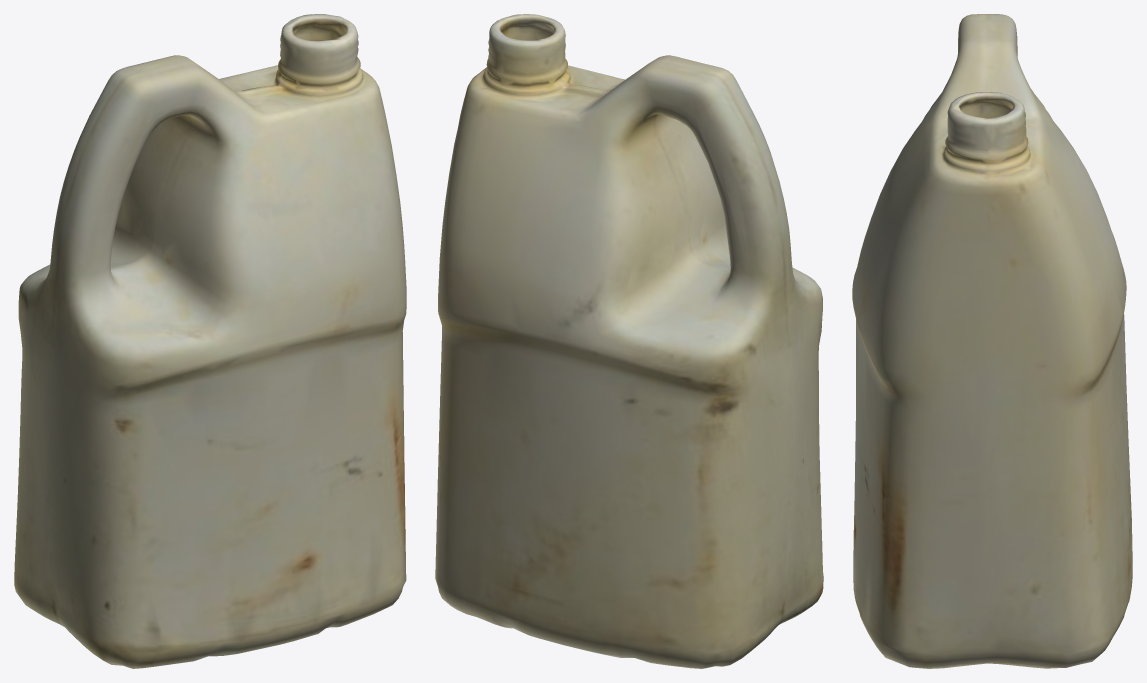
Rendered from water_jug.glb.
3 renders of one model, left to right at view 1: azimuth 30°, elevation 25°; view 2: azimuth 150°, elevation 25°; view 3: azimuth 270°, elevation 25°, orthographic.
Parts seen in each view (by area): view 1: plastic_bottle_gallon; view 2: plastic_bottle_gallon; view 3: plastic_bottle_gallon.
Part boxes in pixels (x1,y1,x2,y2): plastic_bottle_gallon: [14, 14, 406, 668]; plastic_bottle_gallon: [435, 14, 823, 668]; plastic_bottle_gallon: [852, 14, 1132, 668].
Bounding box in the file's own units: 0.2423 × 0.4 × 0.1841.
1 material, 1 textured.
